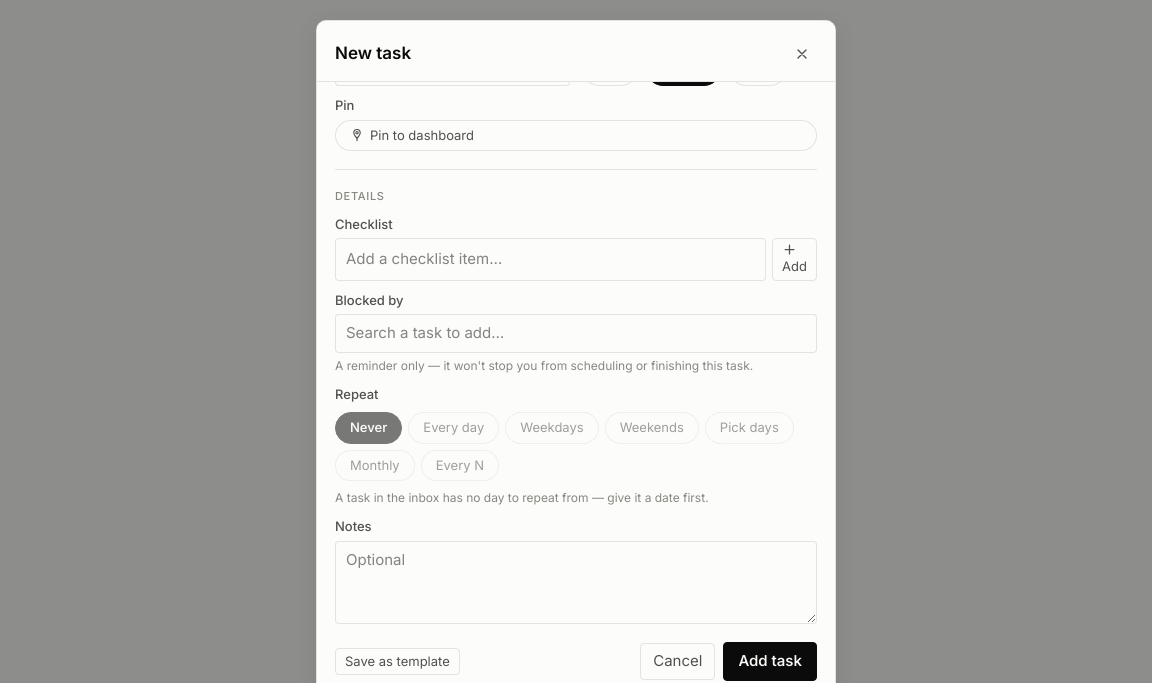
Test: TaskEditor — AI enrichment › offers only the fields still empty, and Apply all never touches one already filled in
(page scrolled)
// Filled in by hand, before the AI answer ever arrives.
Type "My own note" into the text box labelled "Notes" at (576, 582), box x1=335 y1=540 x2=817 y2=624
(page scrolled)
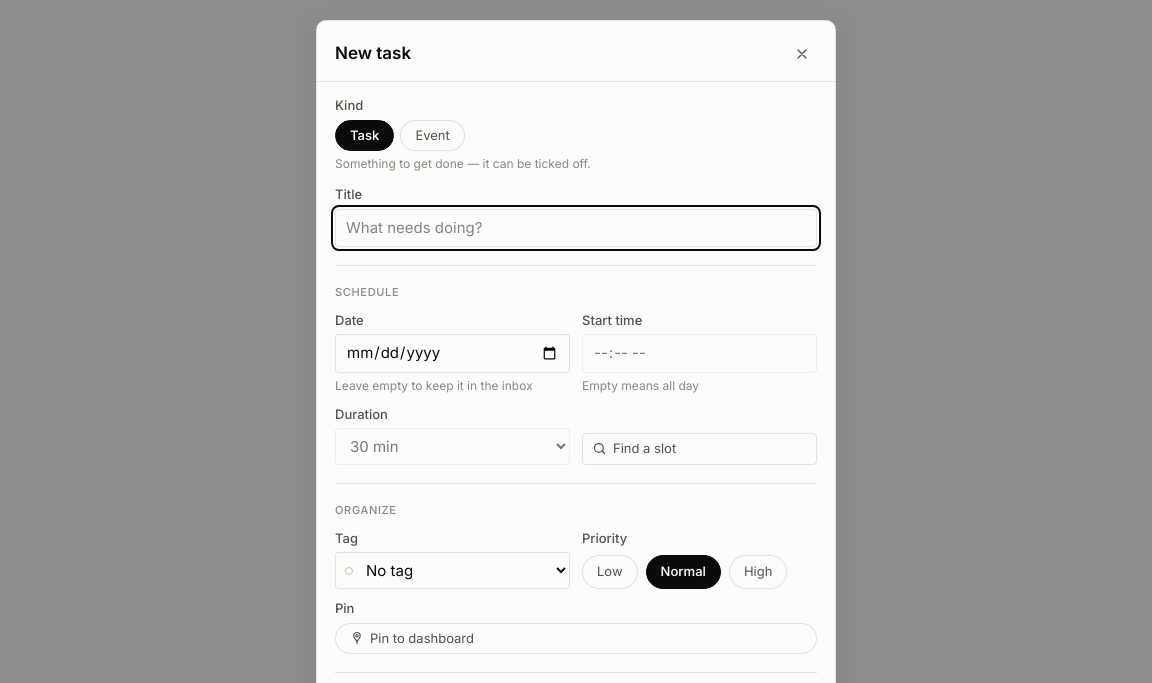
Type "Deep clean kitchen" into the field labelled "Title" at (576, 228), box x1=335 y1=208 x2=817 y2=247
Wait 500 ms
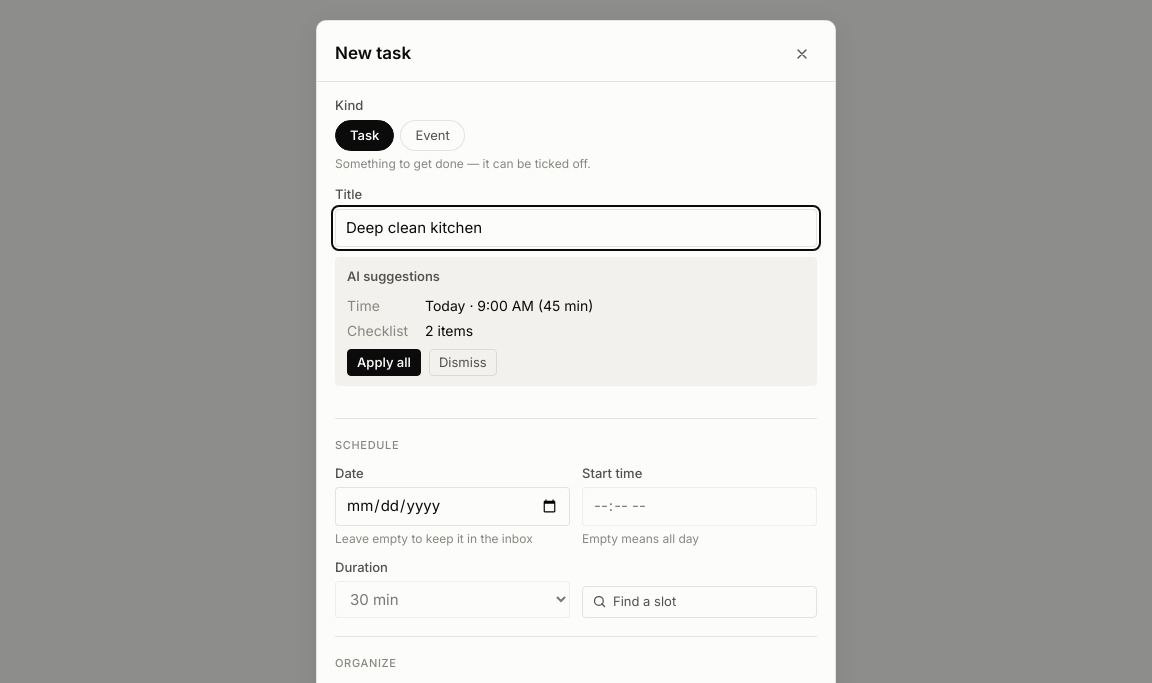
Result: the text "AI suggestions" is shown at x1=347 y1=268 x2=440 y2=284
Result: the text "2 items" is shown at x1=425 y1=322 x2=473 y2=338
Click the button "Apply all" at (384, 362), box x1=347 y1=348 x2=421 y2=376
(page scrolled)
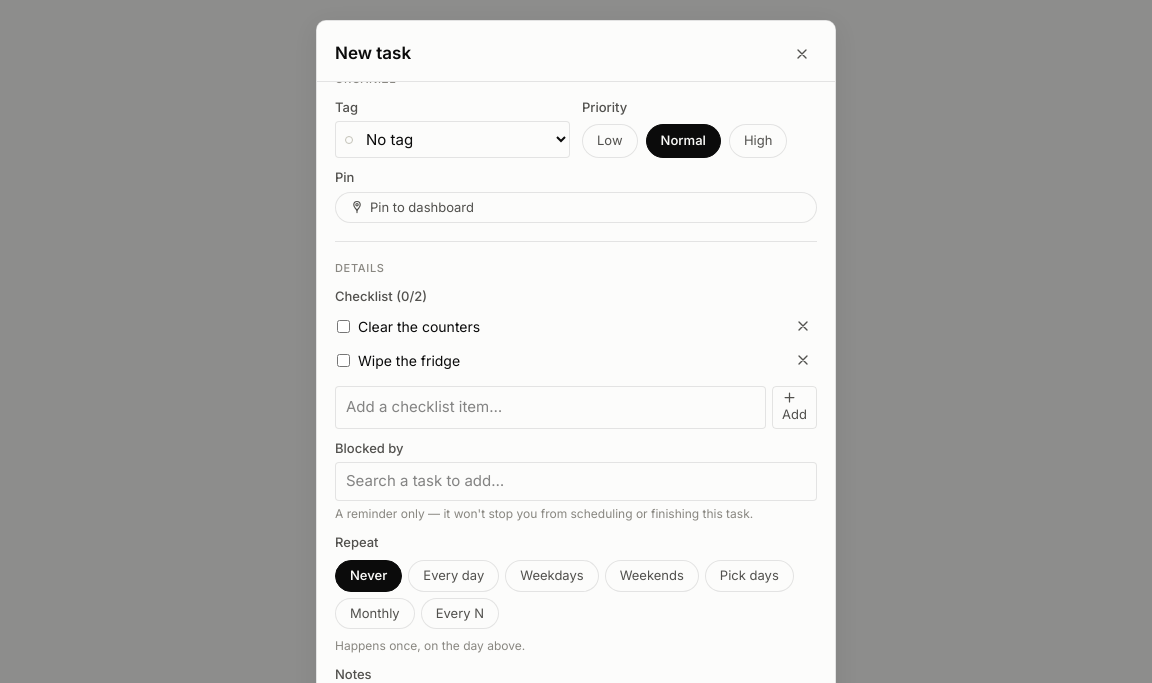
Result: the text "Clear the counters" is shown at x1=358 y1=318 x2=480 y2=334
Result: the text "Wipe the fridge" is shown at x1=358 y1=352 x2=460 y2=368
